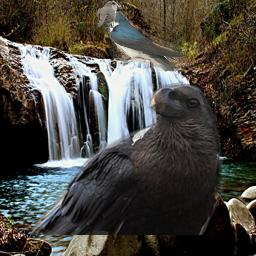Crow: (28, 81, 226, 235)
Cuckoo: (96, 1, 121, 28)
Swallow: (102, 11, 186, 71)
